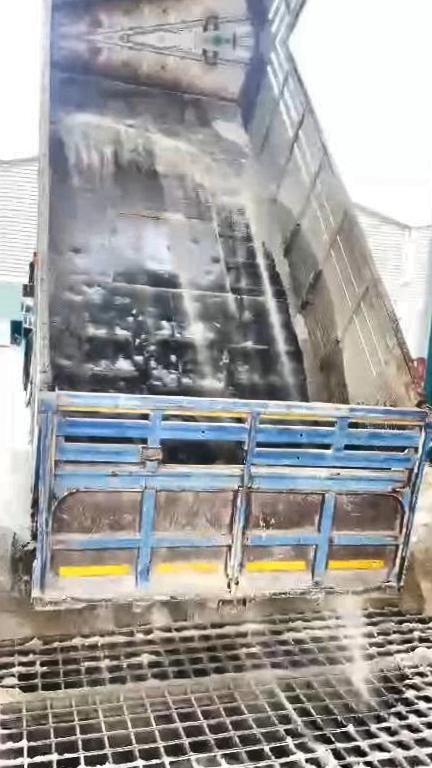sand: (62, 114, 327, 399), (0, 646, 432, 707), (325, 550, 432, 618), (0, 592, 142, 641), (337, 596, 370, 699), (326, 751, 390, 768), (214, 120, 247, 147)
